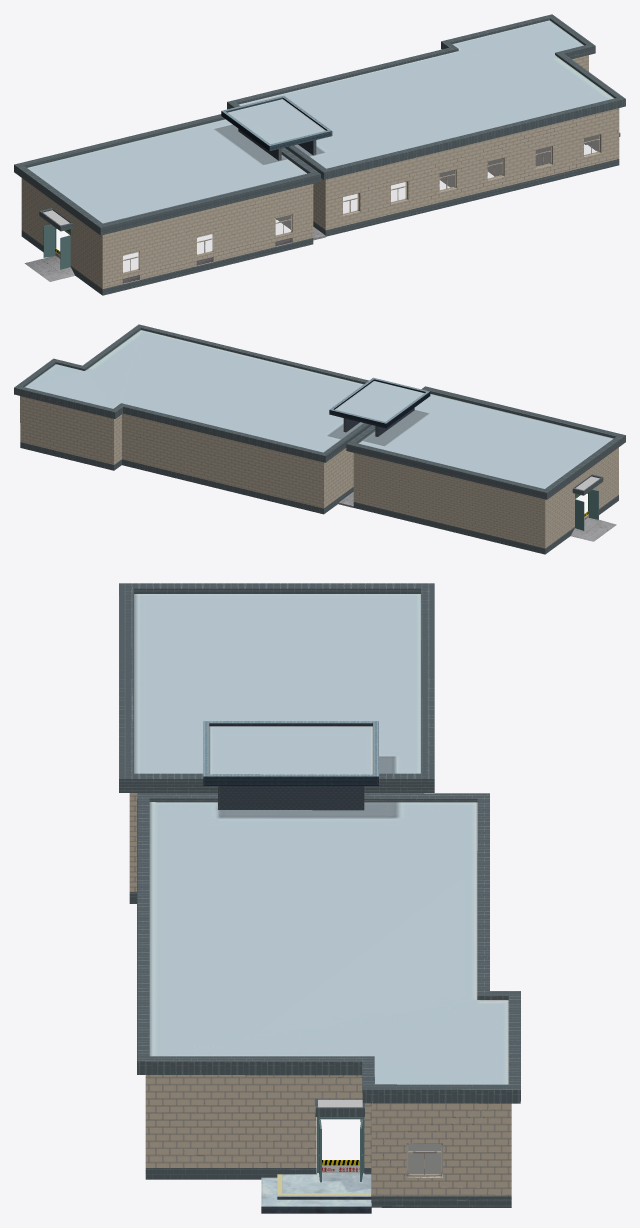
3 renders of one model, top to bottom at view 1: azimuth 30°, elevation 25°; view 2: azimuth 150°, elevation 25°; view 3: azimuth 270°, elevation 25°, orthographic. The views are drawn at different scales.
Visible parts, largest first — view 1: 21-Material #37 (×2), 21-qiang, 21-Material #38 (×2), 21-qiang2, 21-xinhome4, 21-材质.15, 21-内墙1, 21-材质.92, 21-floor.1; view 2: 21-Material #37, 21-qiang, 21-Material #38 (×2), 21-qiang2, 21-xinhome4, 21-floor.1, 21-材质.92; view 3: 21-qiang, 21-qiang2, 21-Material #38 (×2), 21-Material #37, 21-xinhome4, 21-25.1门阶.1, 21-内墙1, 21-材质.15.
Part boxes in pixels (x1,y1,x2,y2): 21-Material #37 (×2): (21, 55, 619, 288); 21-qiang: (239, 20, 614, 168); 21-Material #38 (×2): (14, 14, 625, 295); 21-qiang2: (27, 119, 306, 223); 21-xinhome4: (221, 95, 332, 160); 21-材质.15: (123, 135, 598, 272); 21-内墙1: (439, 135, 598, 187); 21-材质.92: (43, 224, 70, 269); 21-floor.1: (24, 256, 74, 281); 21-Material #37: (20, 396, 618, 548); 21-qiang: (24, 330, 363, 452); 21-Material #38 (×2): (14, 324, 625, 554); 21-qiang2: (359, 393, 613, 488); 21-xinhome4: (329, 377, 430, 436); 21-floor.1: (571, 518, 616, 541); 21-材质.92: (575, 489, 598, 530); 21-qiang: (149, 802, 508, 1084); 21-qiang2: (134, 594, 420, 773); 21-Material #38 (×2): (119, 583, 520, 1207); 21-Material #37: (129, 793, 511, 1196); 21-xinhome4: (203, 721, 378, 810); 21-25.1门阶.1: (261, 1173, 371, 1213); 21-内墙1: (360, 1119, 442, 1174); 21-材质.15: (408, 1143, 440, 1174).
Size of the model in its own units: 34.26 by 5.16 by 11.24.
23 materials, 15 textured.
